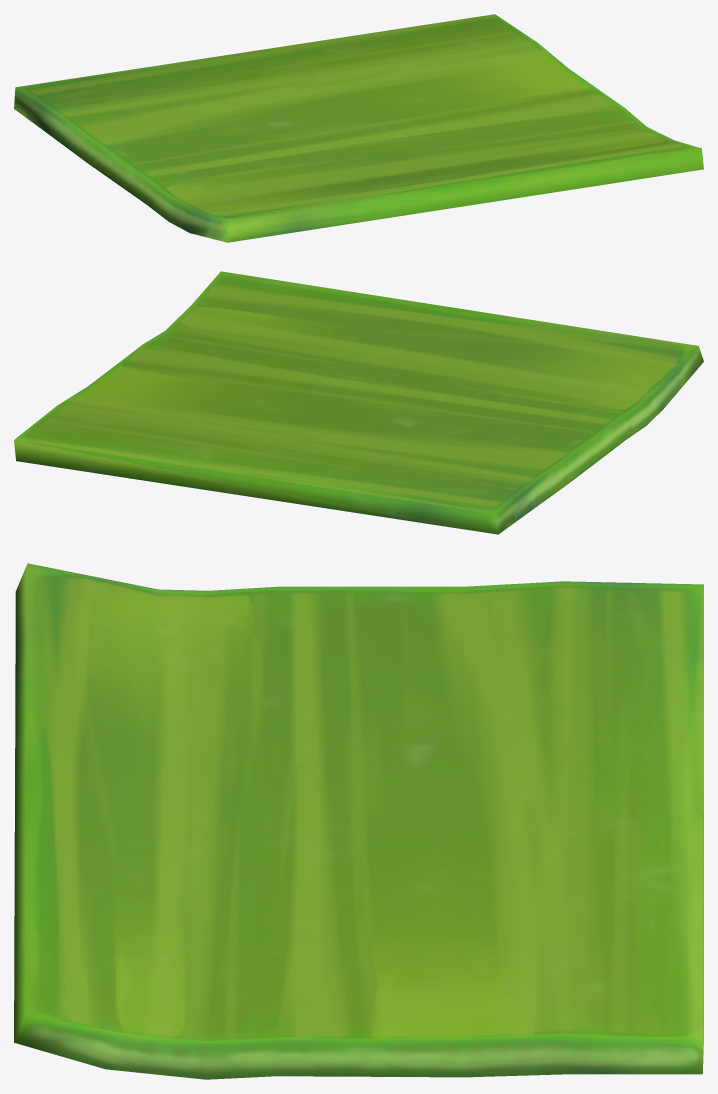
File: caoban1.fbx
3 views of the same model, one above another, from view 1: azimuth 30°, elevation 25°; view 2: azimuth 150°, elevation 25°; view 3: azimuth 270°, elevation 25° (orthographic). The views are drawn at different scales.
Parts seen in each view (by area): view 1: caoban1; view 2: caoban1; view 3: caoban1.
Boxes of the visible parts, x1,y1,x2,y2 form: caoban1: (14, 14, 703, 242); caoban1: (14, 271, 703, 534); caoban1: (14, 563, 703, 1079).
Bounding box in the file's own units: 188 × 30.84 × 142.
